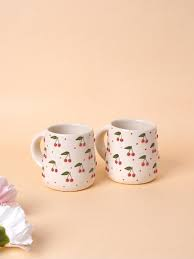mug: (24, 104, 123, 213), (98, 110, 169, 201)
